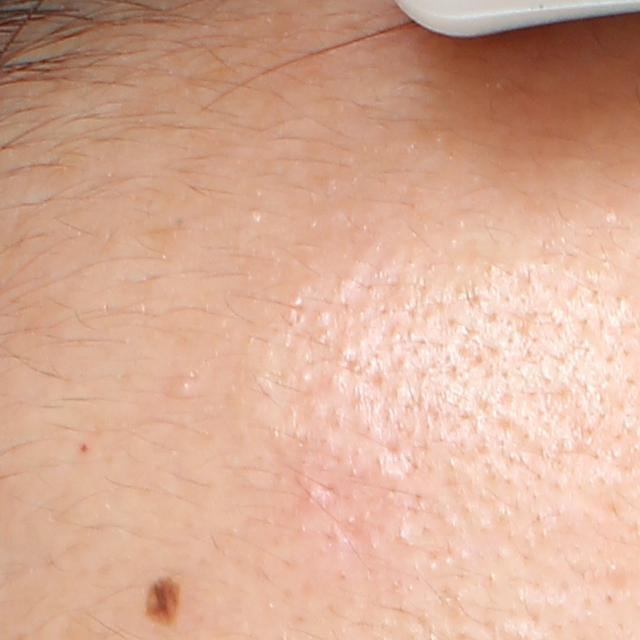comedo: (167, 371, 201, 398)
nevus: (141, 574, 184, 629)
